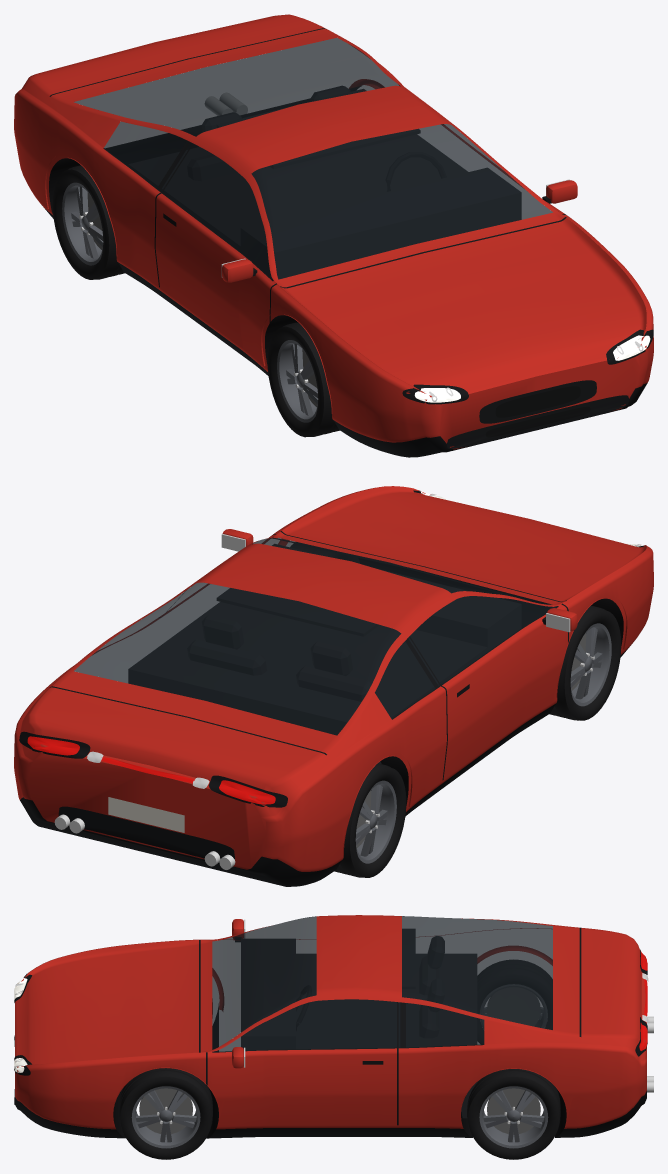
File: car_sports.glb
3 renders of one model, top to bottom at view 1: azimuth 30°, elevation 25°; view 2: azimuth 150°, elevation 25°; view 3: azimuth 270°, elevation 25°, orthographic. The views are drawn at different scales.
Visible parts, largest first — view 1: body, glass, interior, wheel_fr, wheel_rr, lights_head; view 2: body, glass, interior, wheel_fr, wheel_rr, lights_tail; view 3: body, glass, interior, wheel_fl, wheel_rl, wheel_rr, lights_tail, lights_head.
Part boxes in pixels (<box>): body: <box>14,14,653,457</box>; glass: <box>74,38,552,280</box>; interior: <box>128,86,521,279</box>; wheel_fr: <box>267,322,339,437</box>; wheel_rr: <box>52,165,124,279</box>; lights_head: <box>402,329,653,404</box>; body: <box>14,486,653,886</box>; glass: <box>74,537,557,735</box>; interior: <box>128,544,521,763</box>; wheel_fr: <box>549,605,621,720</box>; wheel_rr: <box>334,763,406,877</box>; lights_tail: <box>19,731,287,807</box>; body: <box>14,915,653,1138</box>; glass: <box>212,916,552,1051</box>; interior: <box>241,929,477,1118</box>; wheel_fl: <box>119,1068,212,1159</box>; wheel_rl: <box>467,1069,560,1159</box>; wheel_rr: <box>477,960,552,1044</box>; lights_tail: <box>635,949,648,1056</box>; lights_head: <box>14,973,32,1075</box>.
Size of what is drawn, in the model's own units: 2.39 by 1.23 by 4.66.
